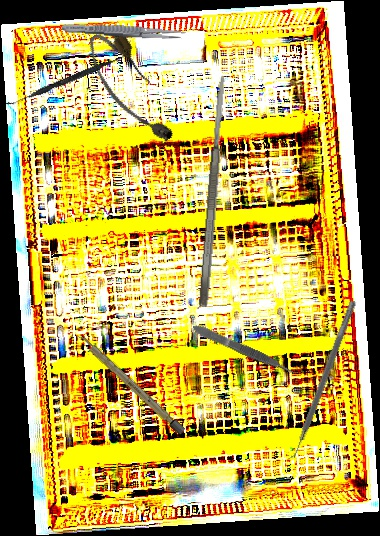Cannula: (79, 22, 182, 154)
Dressing Forceps: (61, 21, 186, 41)
Scalpel Handle: (75, 331, 186, 436)
Spatula Surgical: (283, 297, 357, 466), (196, 74, 230, 308), (6, 51, 127, 110)
Tissue Forceps: (190, 321, 299, 380)
